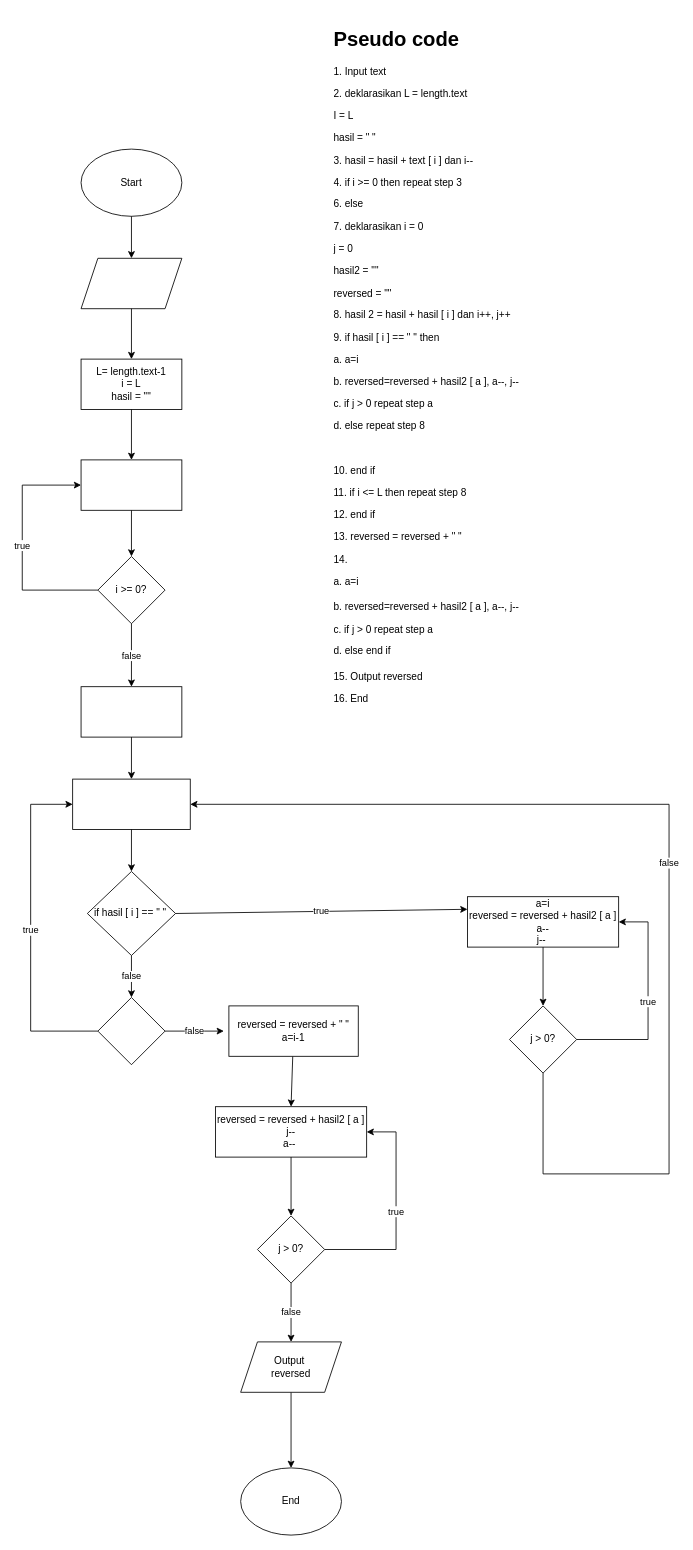
The diagram is 693 pixels wide and 1550 high, and some of its shapes have lost their labels. Each missing label, with the centre of its shape:
hasil = hasil + text[ i ] i --: (131,484)
hasil2 = hasil2 + hasil [ i ] i++ j++: (131,804)
i <= L?: (131,1031)
i = 0 j = 0 hasil2 = "" reversed = "": (131,711)
Input text: (131,283)
